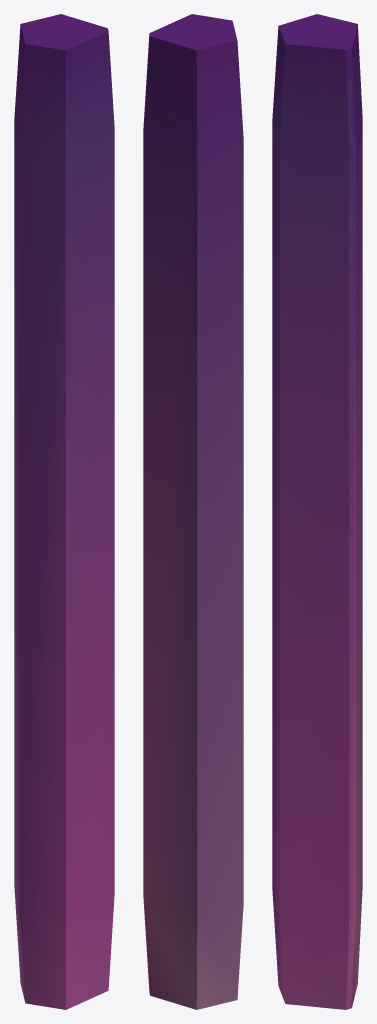
File: variant 3.fbx
The picture shows the model from 3 angles, left to right: view 1: azimuth 30°, elevation 25°; view 2: azimuth 210°, elevation 25°; view 3: azimuth 330°, elevation 25°; orthographic projection.
Visible parts, largest first — view 1: Cube.002; view 2: Cube.002; view 3: Cube.002.
Boxes of the visible parts, bbox=[...] form: Cube.002: bbox=[14, 14, 114, 1009]; Cube.002: bbox=[143, 14, 243, 1009]; Cube.002: bbox=[272, 14, 362, 1009].
Bounding box in the file's own units: 427 × 4400 × 367.
